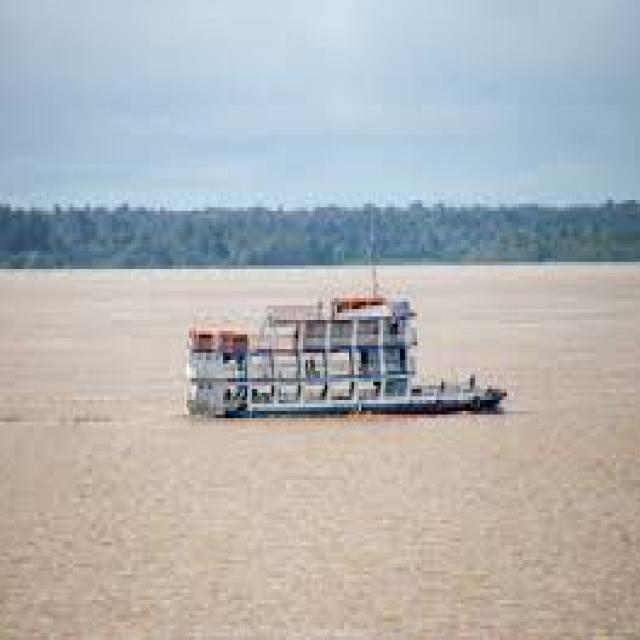houseboat: (156, 269, 509, 449)
